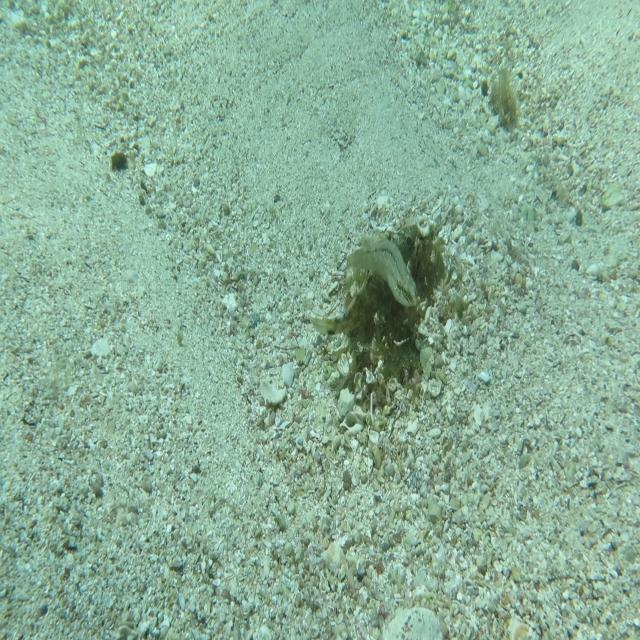ROLL: (309, 223, 419, 337)
core_nest: (402, 244, 437, 278)
female: (344, 232, 418, 308)
nest: (336, 204, 464, 420)
vegetation: (482, 70, 526, 139), (108, 148, 130, 178)
